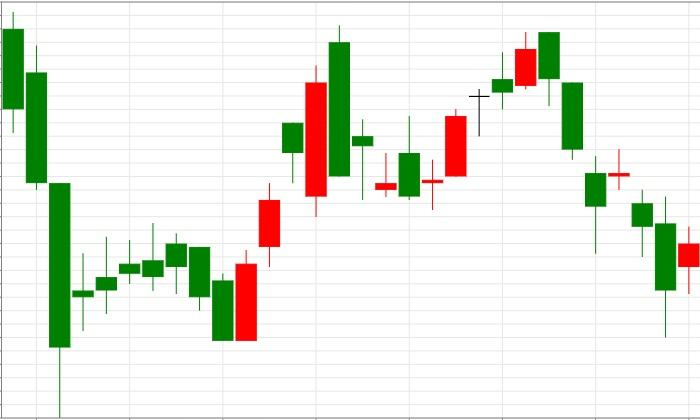bearish_engulfing_fall: (421, 32, 561, 210)
bullish_engulfing_rise: (141, 222, 258, 341)
three_black_crows_fall: (421, 31, 607, 254)
